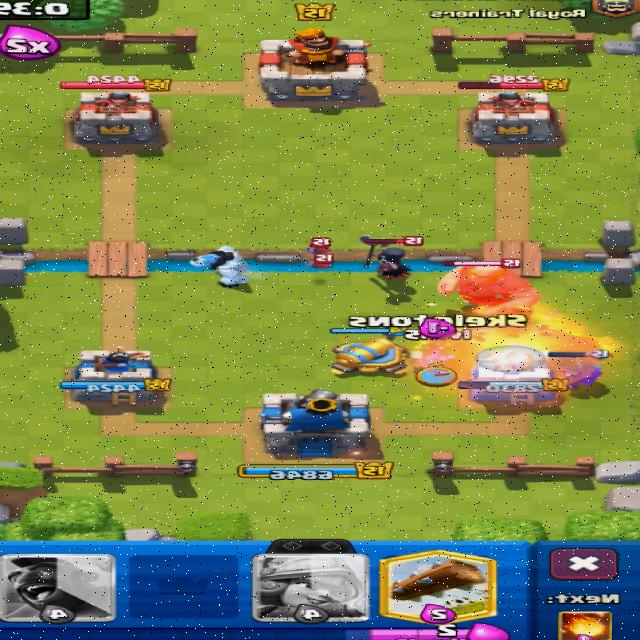Enemy-Bat: (308, 238, 331, 253), (313, 253, 332, 268)
Enemy-Giant: (438, 266, 539, 315)
Enemy-KingTower: (261, 26, 370, 101)
Enemy-NightWitch: (362, 235, 422, 281)
Enemy-PrincessTower: (472, 90, 558, 149), (74, 91, 159, 144)
Player-Cannon: (332, 338, 406, 374)
Player-IceGolem: (192, 246, 247, 287)
Player-KingTower-Activated: (261, 389, 371, 457)
Player-Musketeer-Evo: (551, 358, 602, 390)
Player-PrincessTower: (62, 346, 172, 408), (460, 346, 555, 406)
